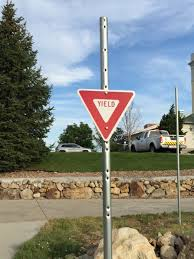yield_sign: (77, 89, 135, 141)
